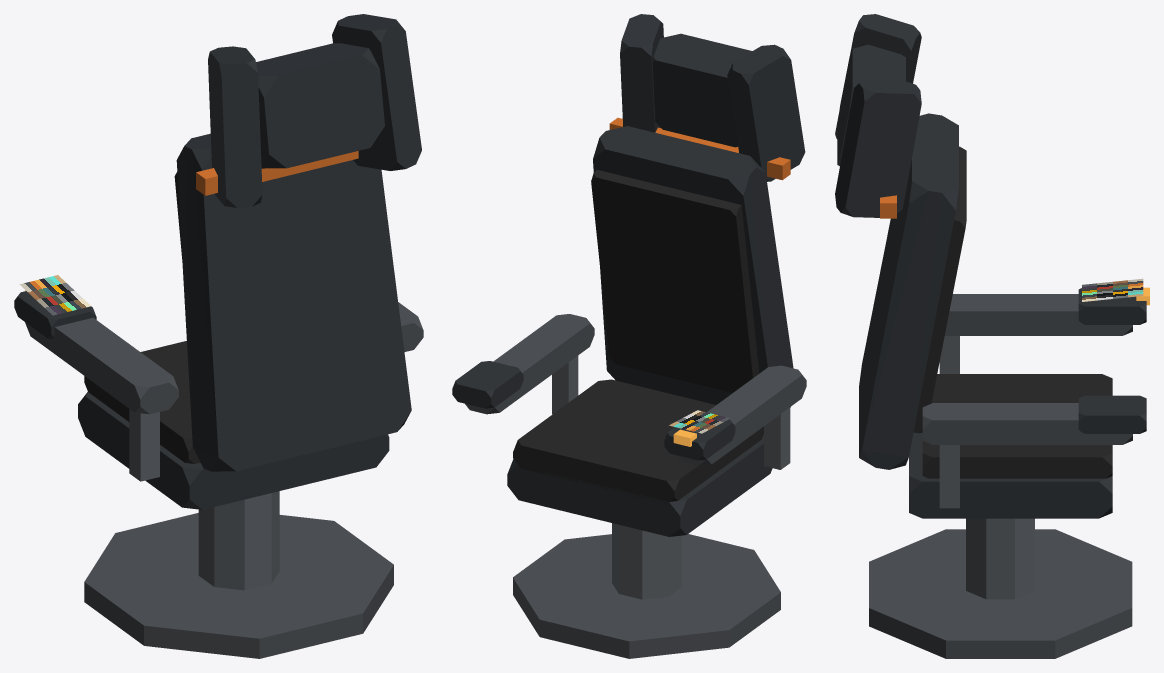
File: hum_command_chair.glb
The picture shows the model from 3 angles, left to right: view 1: azimuth 30°, elevation 25°; view 2: azimuth 150°, elevation 25°; view 3: azimuth 270°, elevation 25°; orthographic projection. The views are drawn at different scales.
Parts seen in each view (by area): view 1: chair, chair_screen; view 2: chair, chair_screen; view 3: chair, chair_screen.
Boxes of the visible parts, box(x1,y1,x2,y2) form: chair: box(14, 14, 423, 658); chair_screen: box(19, 275, 90, 315); chair: box(452, 14, 806, 658); chair_screen: box(669, 410, 730, 433); chair: box(835, 14, 1149, 658); chair_screen: box(1082, 278, 1143, 301).
Size of the model in its own units: 0.9 by 1.79 by 0.9278.
Materials: 3 (3 with a texture image).
